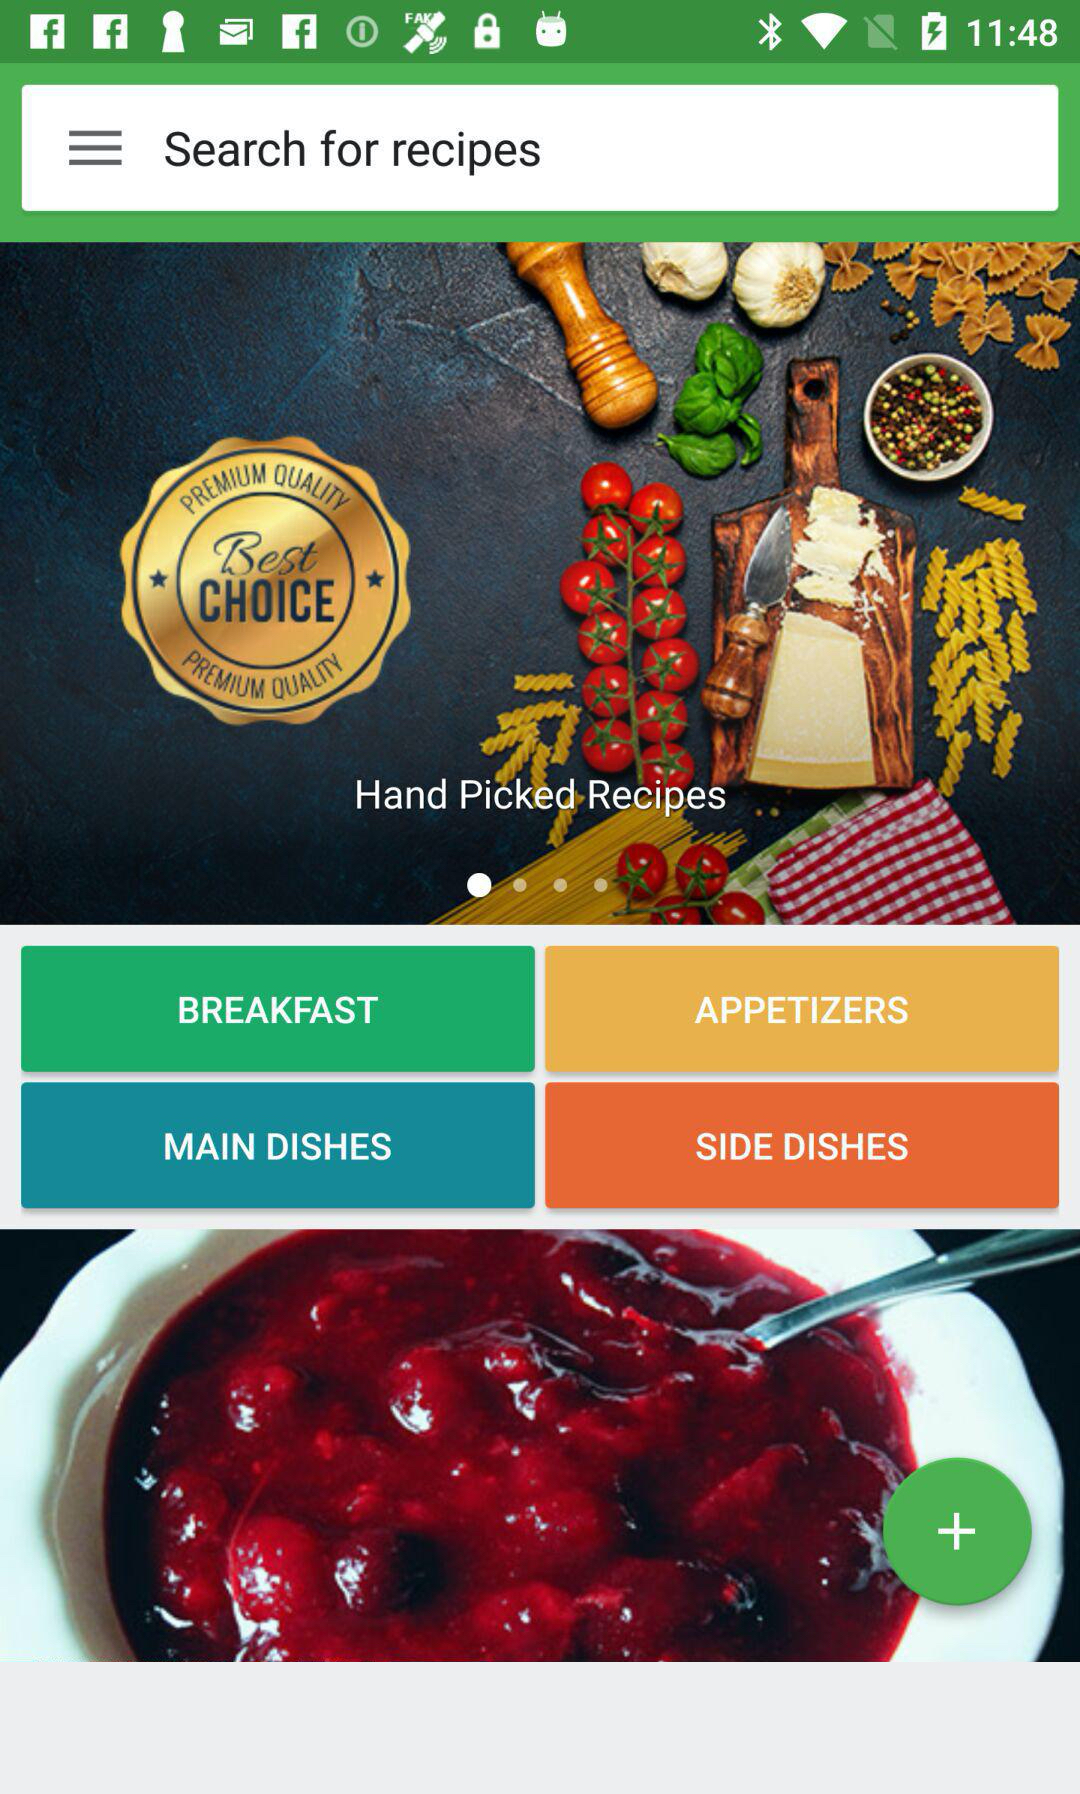EditText: (22, 85, 1060, 213)
Icon: (878, 1457, 1033, 1606), (69, 131, 123, 167)
Image: (1, 243, 1080, 926), (1, 1229, 1080, 1665)
PageIndicator: (468, 873, 609, 900)
Text: (165, 129, 541, 177), (356, 778, 726, 819)
TextButton: (544, 944, 1060, 1073), (544, 1082, 1060, 1208), (20, 1082, 536, 1208), (22, 946, 536, 1073)
UpperTaskBar: (1, 1, 1080, 64)
